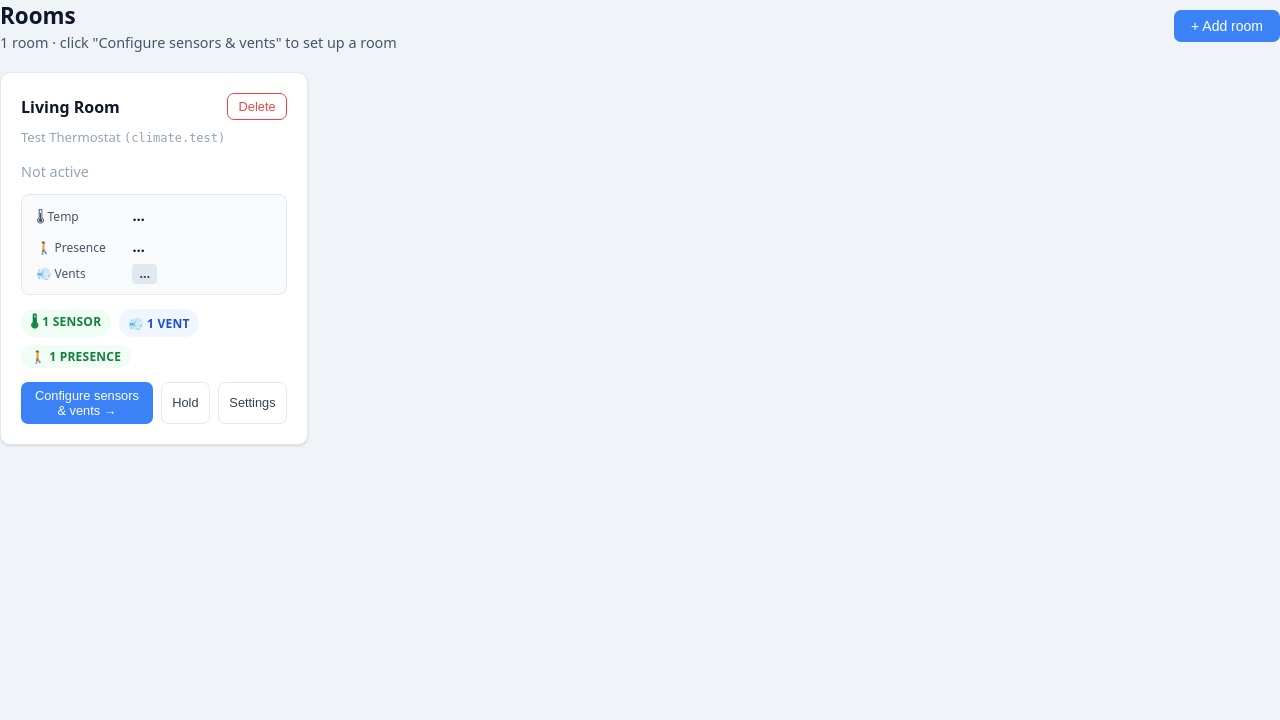
Test: Rooms Page › rejects a name with no letters or numbers
Step 1. Click the button "+ Add room" → (1227, 26), box [1174,10,1279,42]
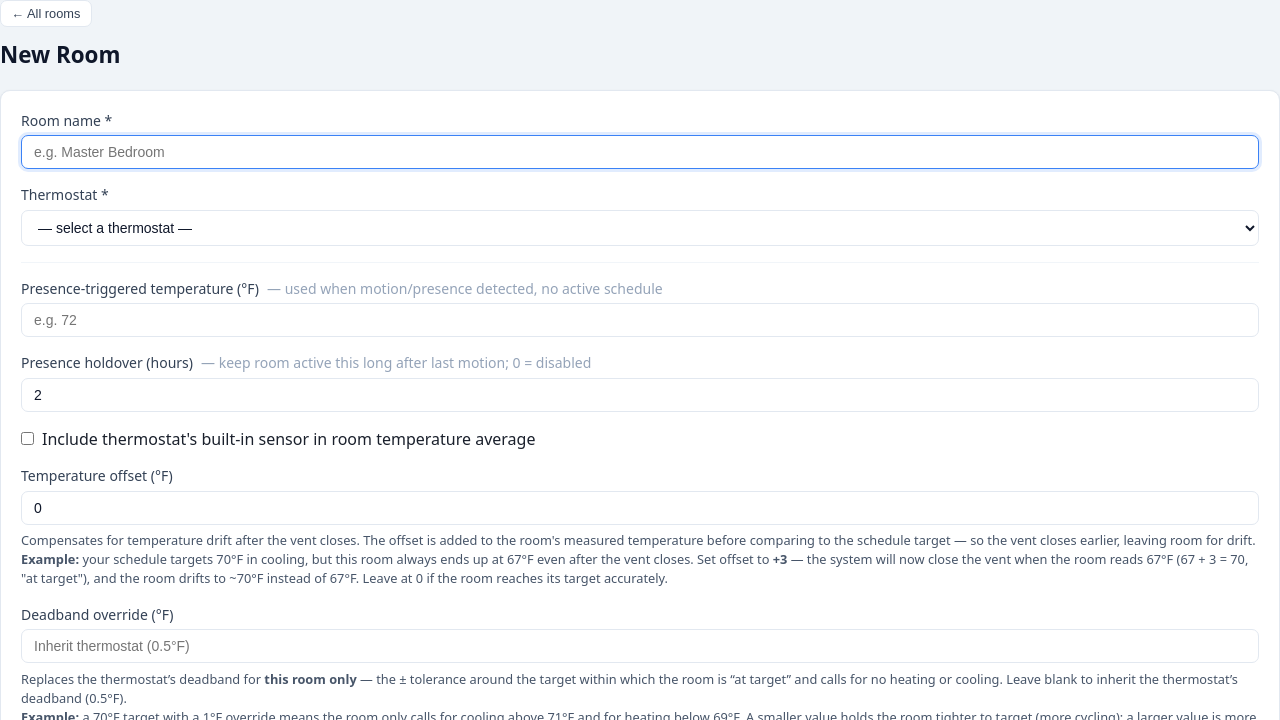
Result: the text "New Room" is shown at [0,39,120,70]
Step 2. Select "Test Thermostat (climate.test)" in the dropdown labelled "Thermostat *" → (640, 228), box [21,210,1259,246]
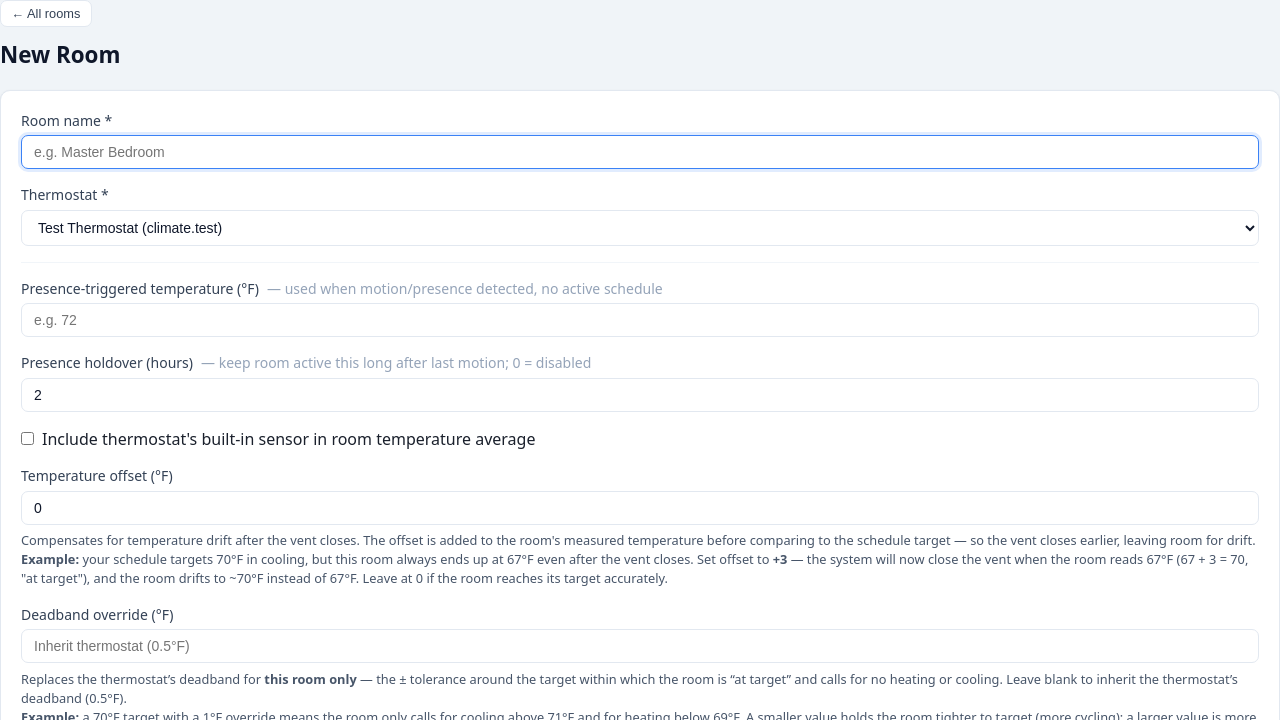
Step 3. Type "!!!" into the field labelled "Room name *" → (640, 152), box [21,135,1259,169]
(page scrolled)
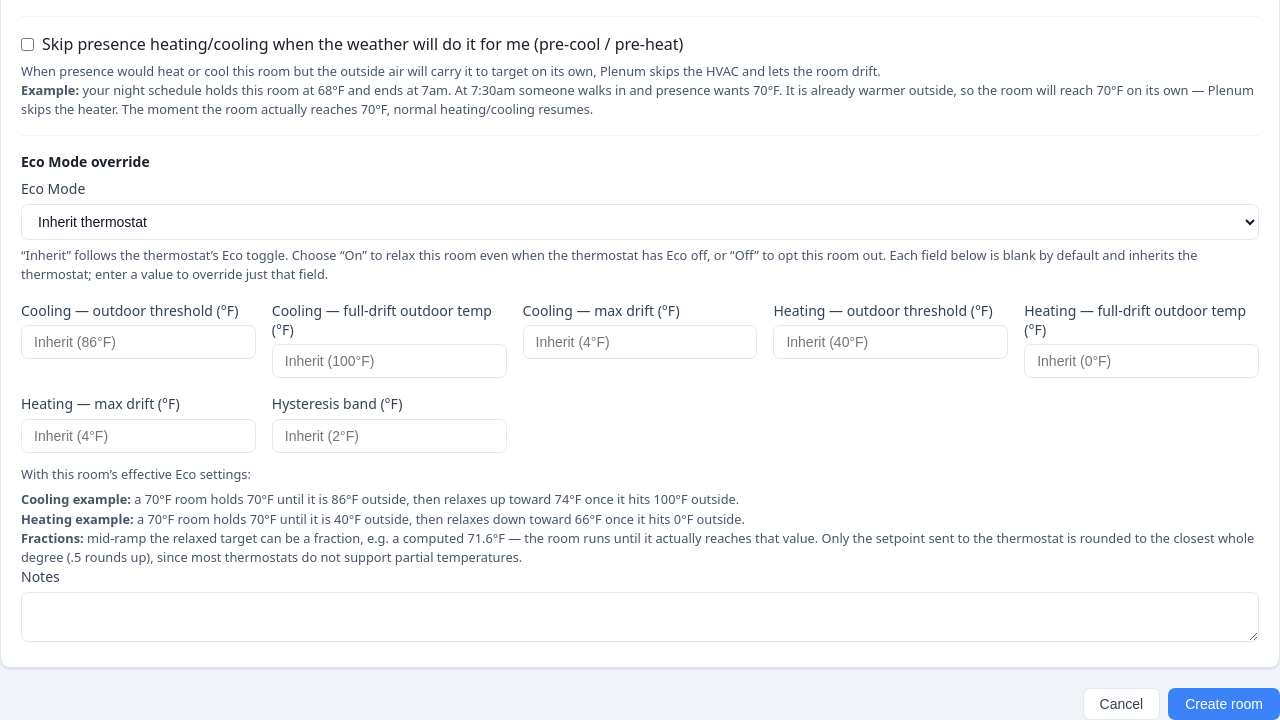
Step 4. Click the button "Create room" → (1224, 704), box [1168,688,1279,719]
(page scrolled)
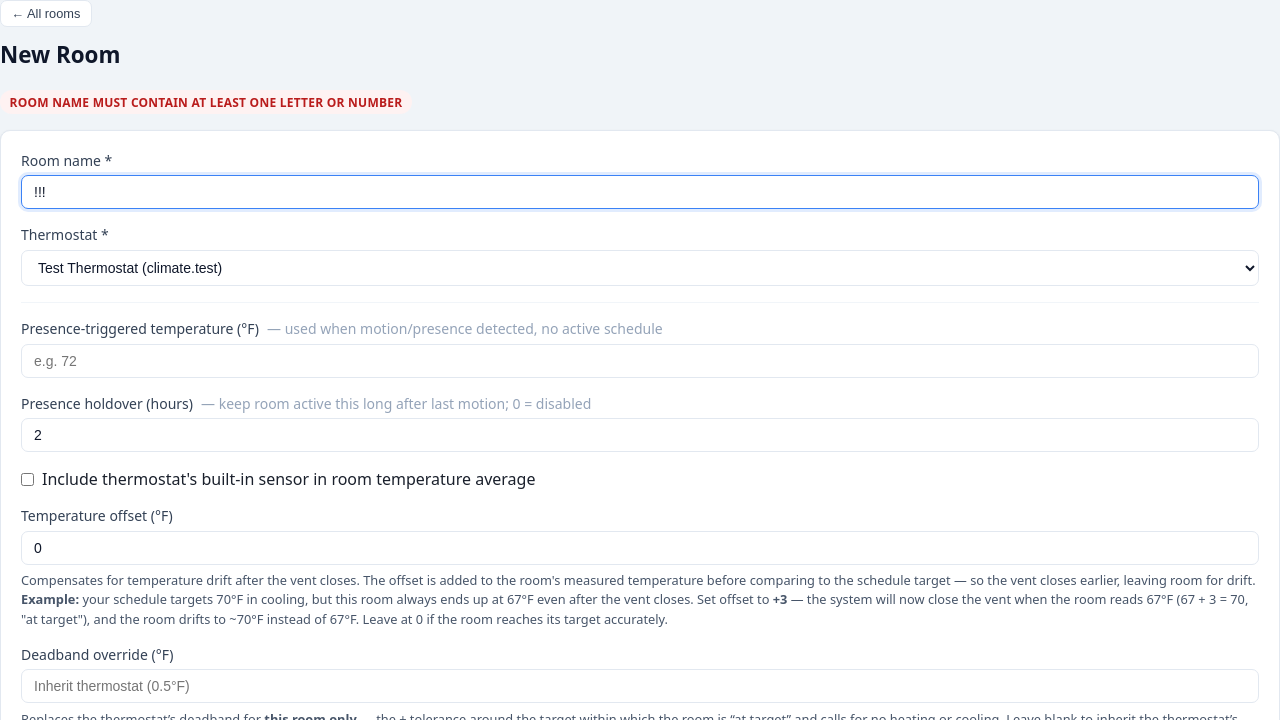
Result: the text "Room name must contain at least one letter or number" is shown at [0,90,412,114]
